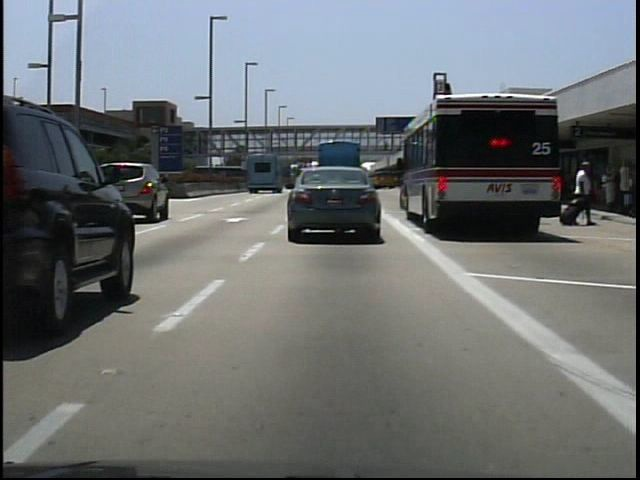person: (568, 156, 596, 230), (381, 137, 394, 157)
